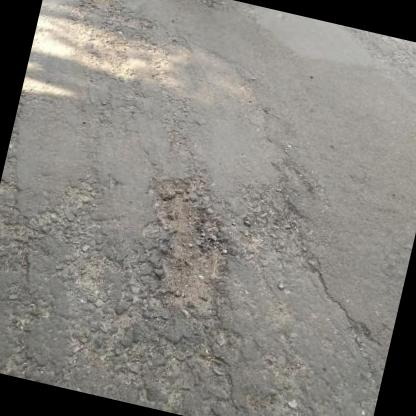pothole: (118, 166, 251, 324), (235, 186, 310, 252)
